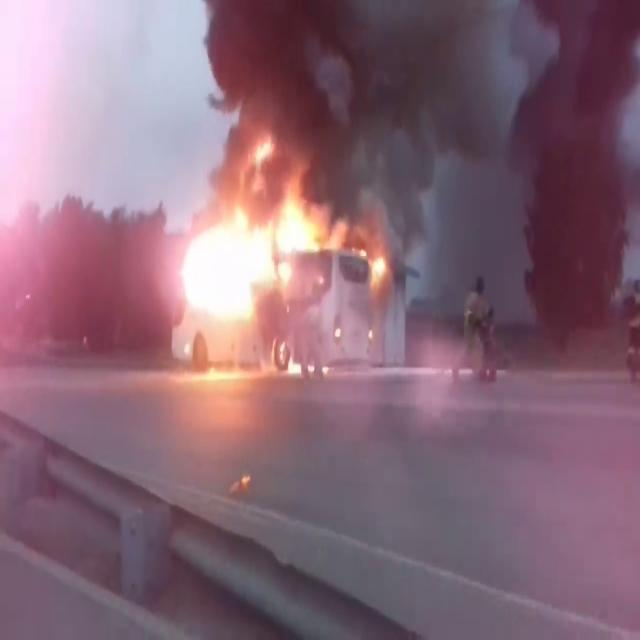Fire: (170, 145, 336, 367), (366, 245, 389, 292)
Smoke: (192, 0, 638, 244)
